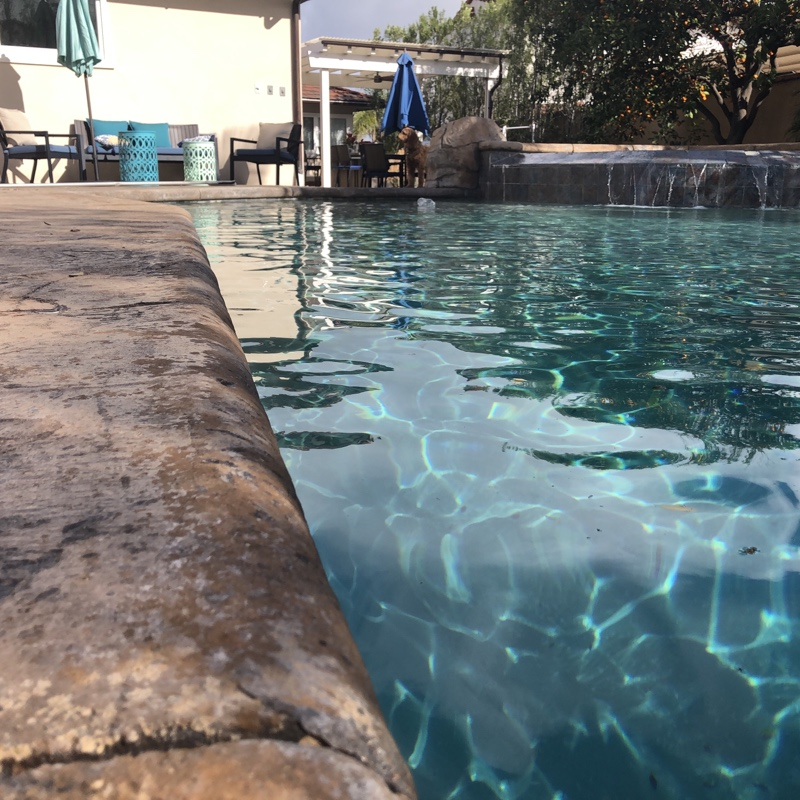Plastic Bottle: (414, 195, 437, 214)
